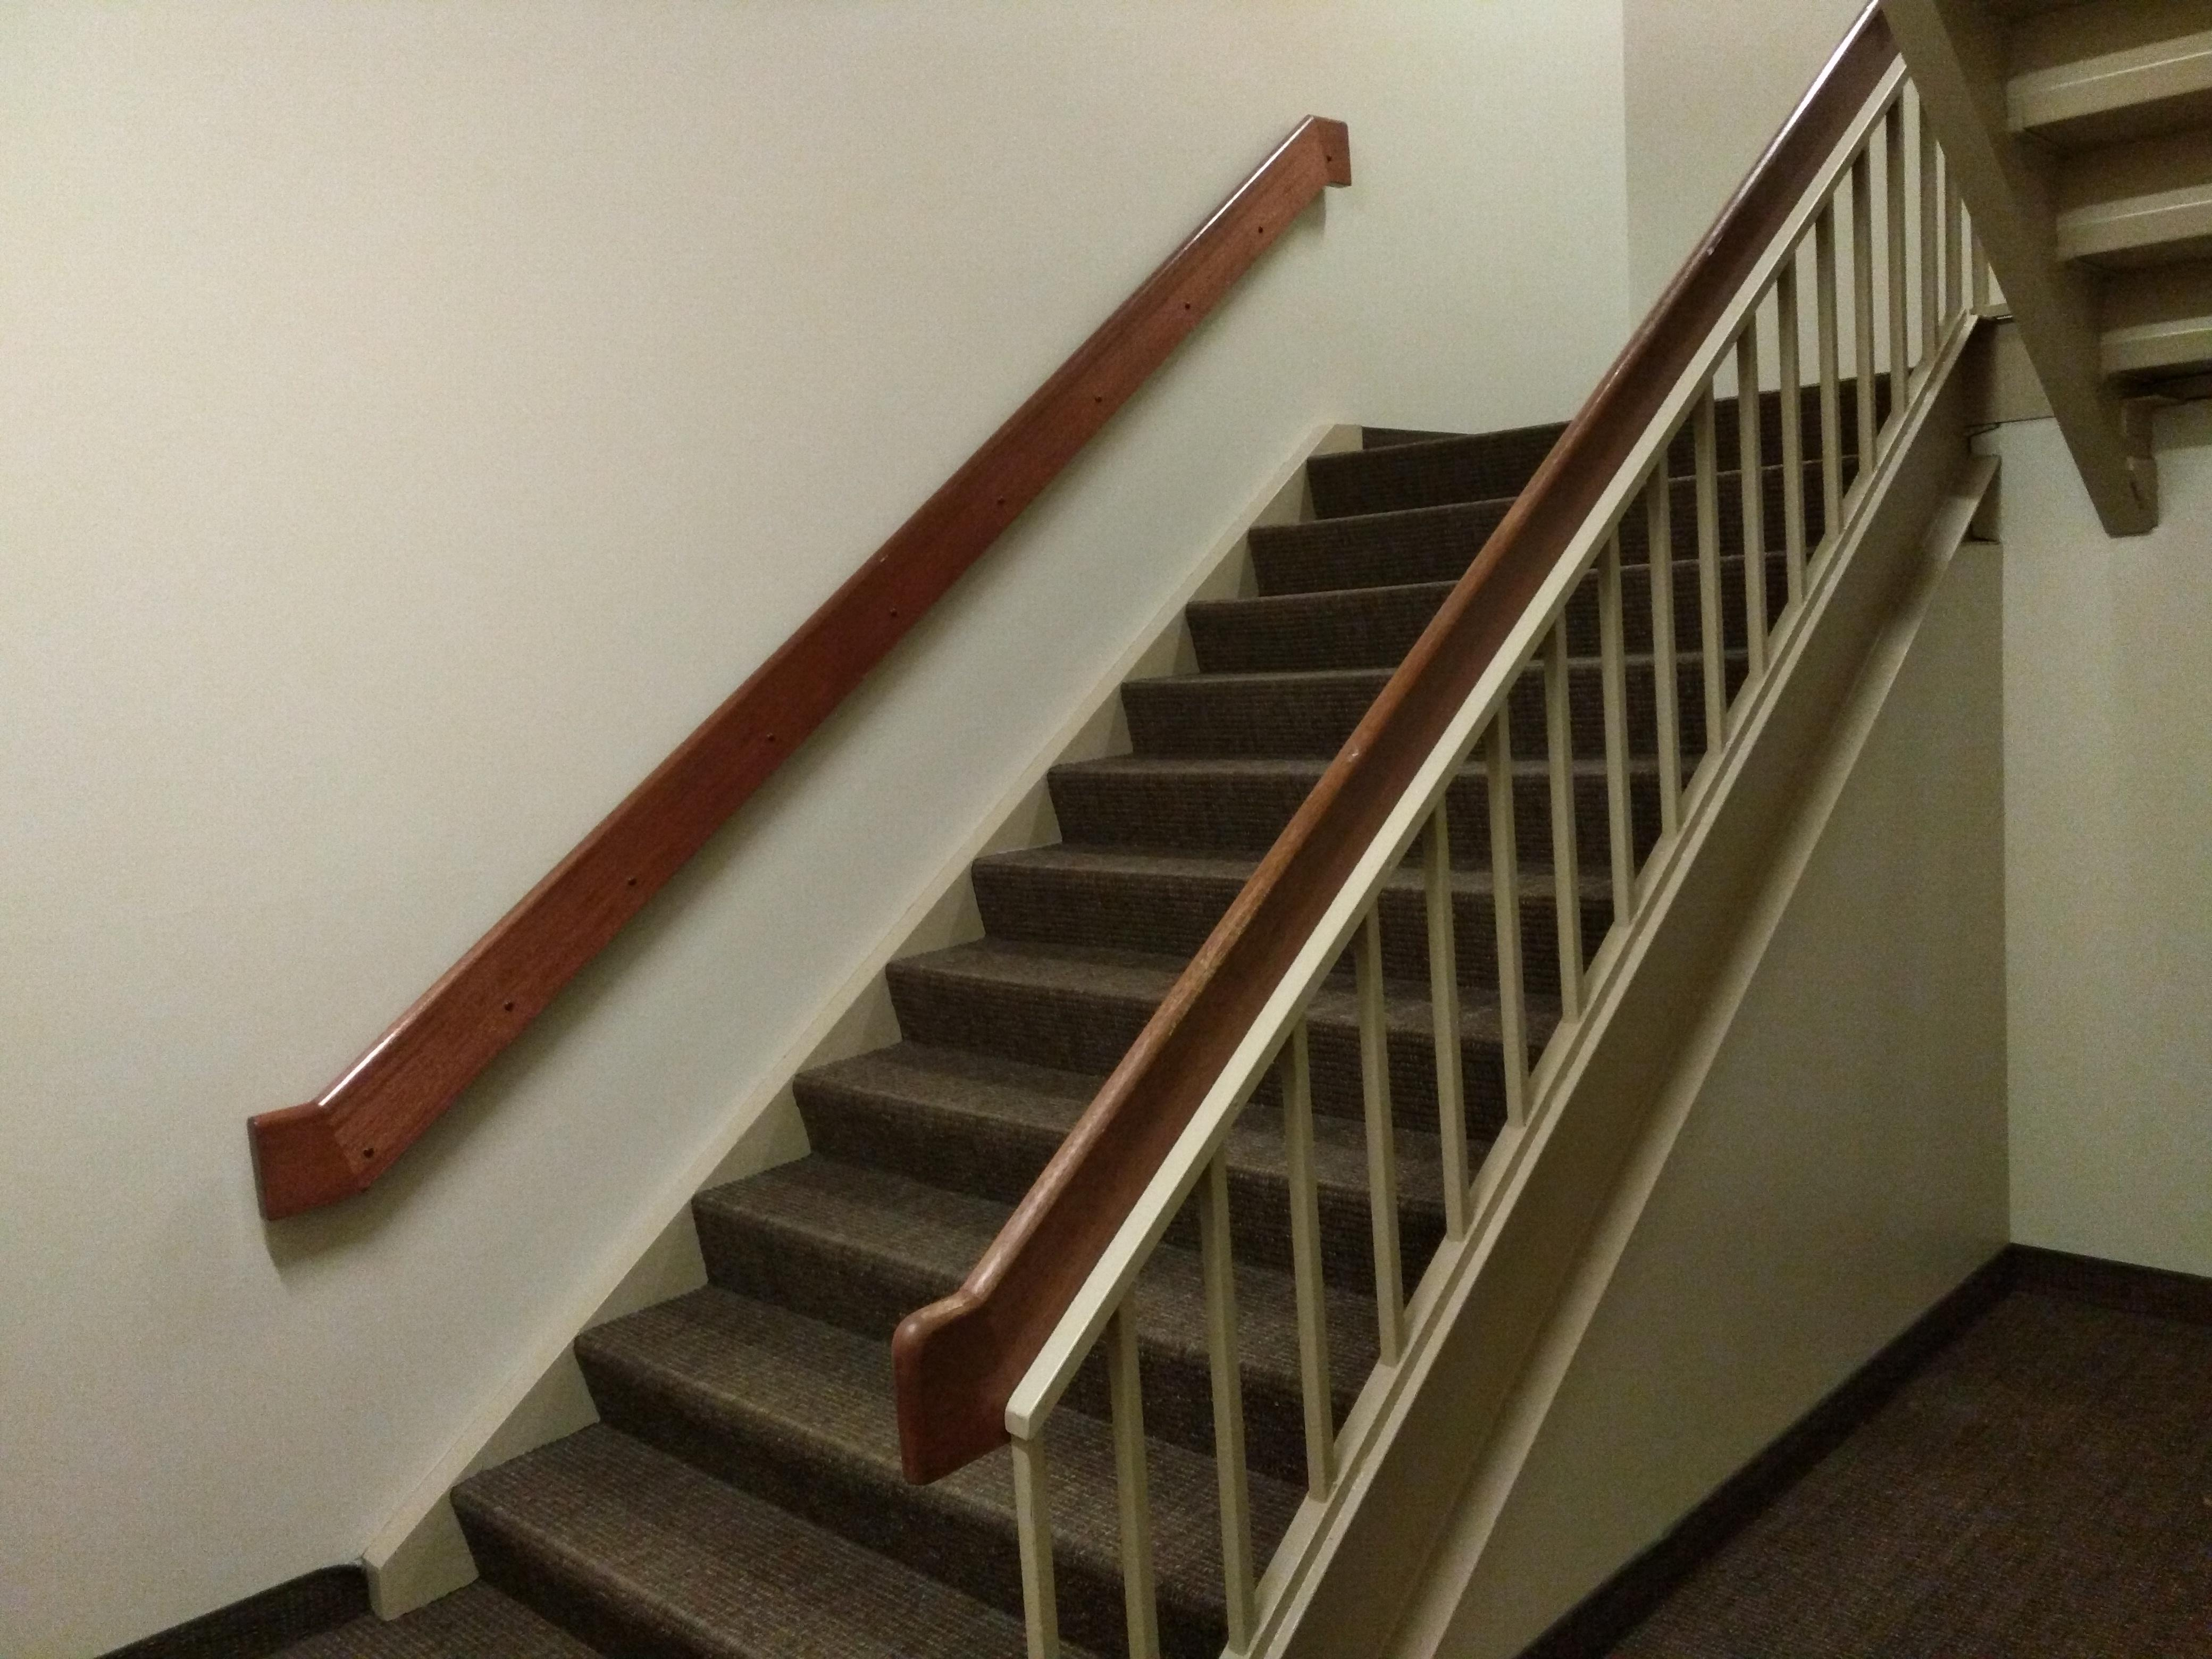stairs_up: (451, 338, 1949, 1659)
